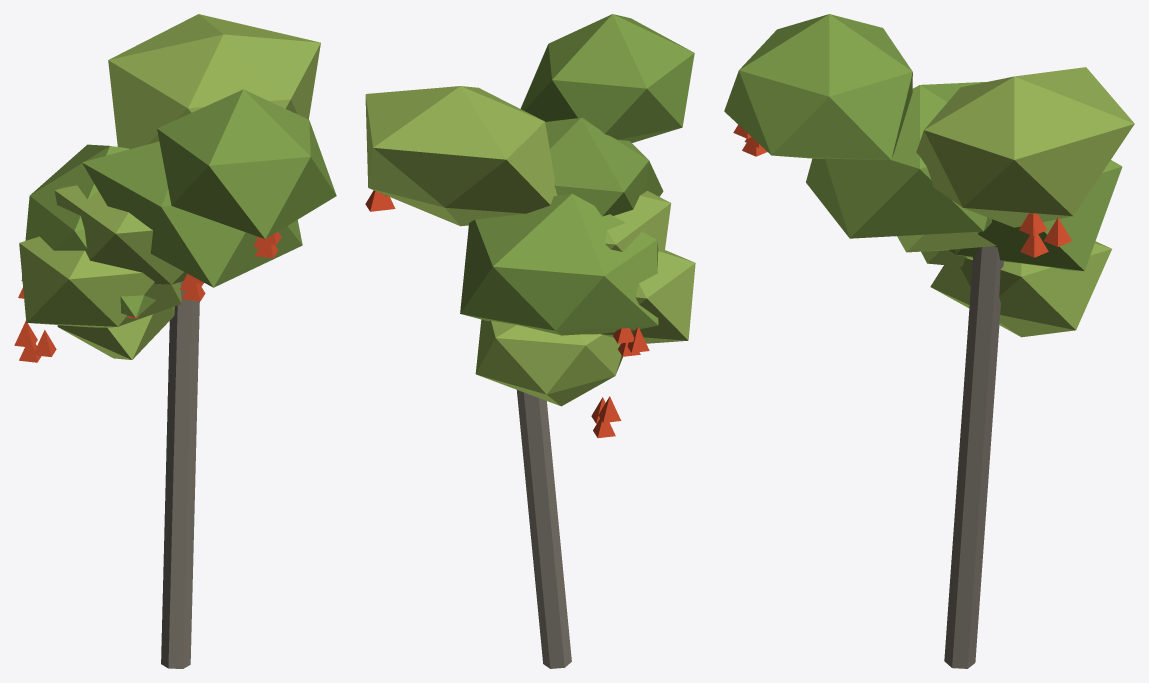
Rendered from ronn_2.glb.
The picture shows the model from 3 angles, left to right: view 1: azimuth 30°, elevation 25°; view 2: azimuth 150°, elevation 25°; view 3: azimuth 270°, elevation 25°; orthographic projection. The views are drawn at different scales.
Parts seen in each view (by area): view 1: ronn_2; view 2: ronn_2; view 3: ronn_2.
Part boxes in pixels (x1,y1,x2,y2): ronn_2: (14, 14, 336, 668); ronn_2: (365, 14, 695, 668); ronn_2: (724, 14, 1134, 668).
Bounding box in the file's own units: 3.17 × 6 × 3.43.
